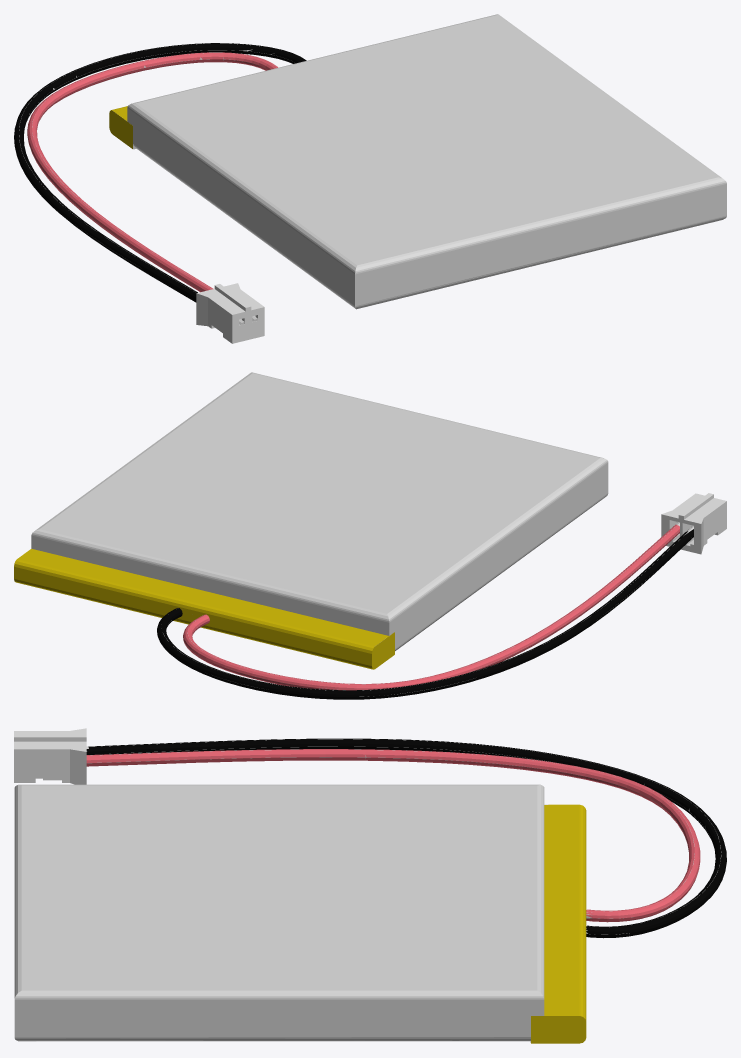
3 renders of one model, top to bottom at view 1: azimuth 30°, elevation 25°; view 2: azimuth 150°, elevation 25°; view 3: azimuth 270°, elevation 25°, orthographic. The views are drawn at different scales.
Parts seen in each view (by area): view 1: _483; view 2: _483; view 3: _483.
Boxes of the visible parts, x1,y1,x2,y2 form: _483: [14, 14, 726, 343]; _483: [14, 372, 726, 699]; _483: [14, 728, 726, 1043].
Size of the model in its own units: 71.24 by 74.8 by 6.4.
